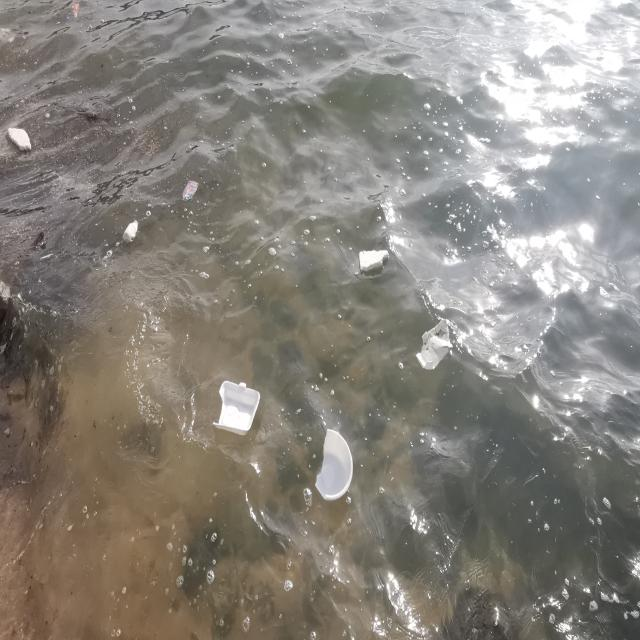foam: (313, 429, 354, 499), (213, 380, 260, 438), (414, 320, 452, 374), (8, 125, 32, 154), (359, 250, 389, 273)
plastic: (121, 219, 138, 243)
unknow: (182, 178, 198, 200)
